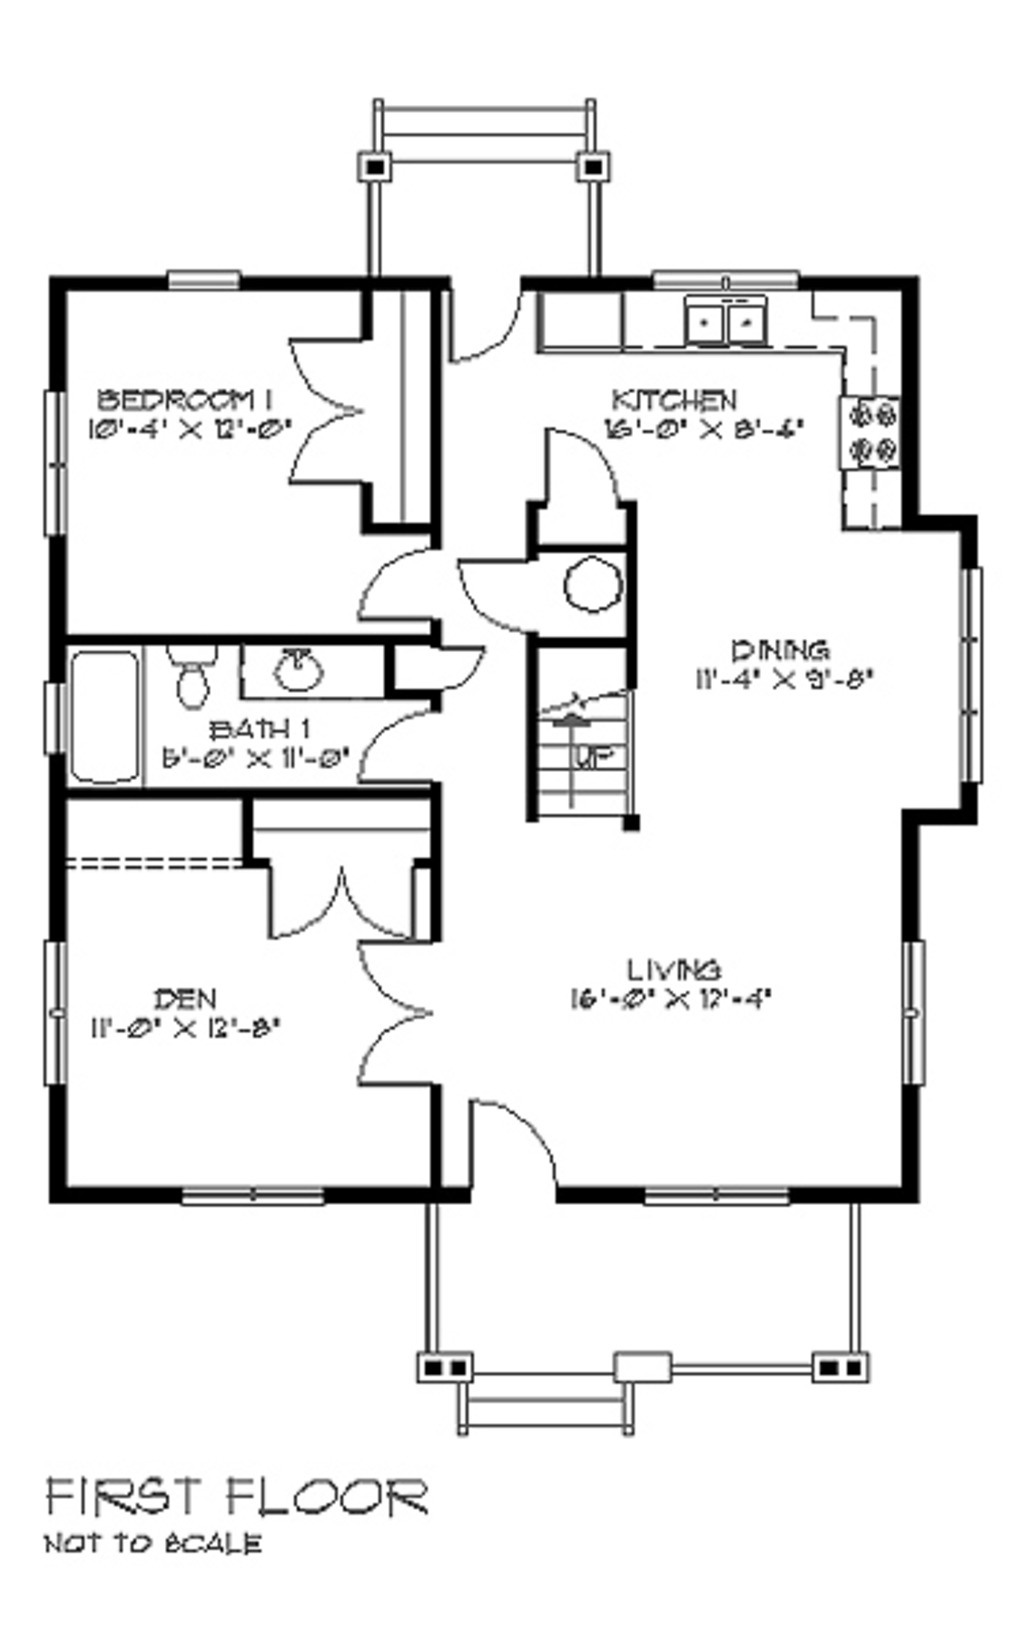door: (247, 855, 428, 949), (442, 1088, 575, 1215), (289, 330, 378, 496), (353, 933, 435, 1084), (453, 533, 549, 642), (526, 418, 639, 508), (431, 264, 523, 370), (344, 525, 440, 621), (362, 706, 449, 781), (440, 650, 491, 688)
large_sink: (165, 639, 236, 716)
small_sink: (227, 637, 394, 701)
stairs: (533, 637, 638, 831)
tub: (77, 649, 147, 790)
twin_sink: (681, 293, 781, 365)
window: (956, 562, 995, 789), (29, 933, 84, 1094), (173, 1172, 324, 1218), (31, 383, 72, 545), (639, 1177, 790, 1216), (897, 940, 931, 1087), (155, 262, 257, 301)
